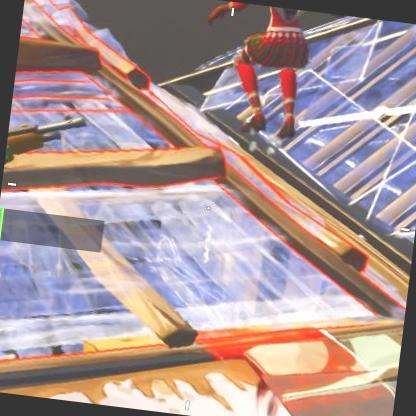person: (233, 3, 308, 140)
